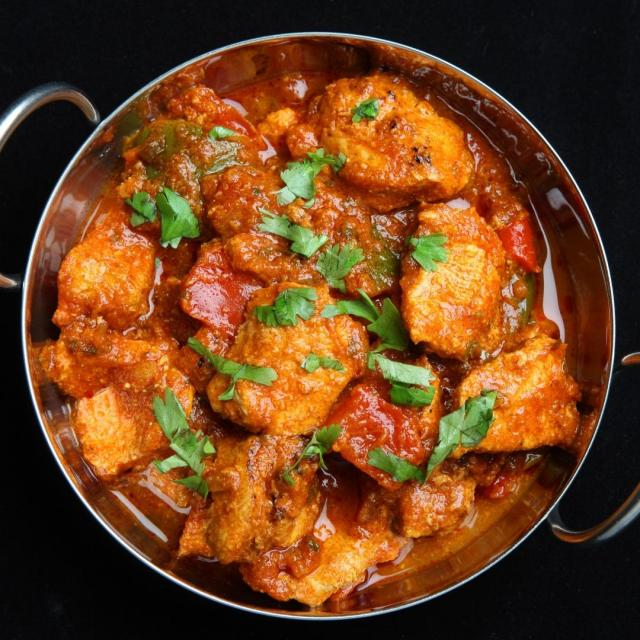chicken: (34, 82, 616, 588)
